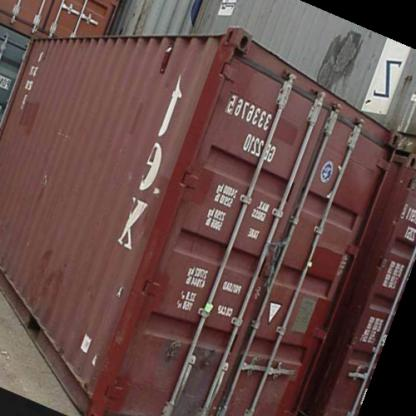Damage: (176, 340, 228, 410), (121, 164, 143, 197), (28, 172, 64, 190), (49, 122, 71, 144), (106, 282, 130, 301)
